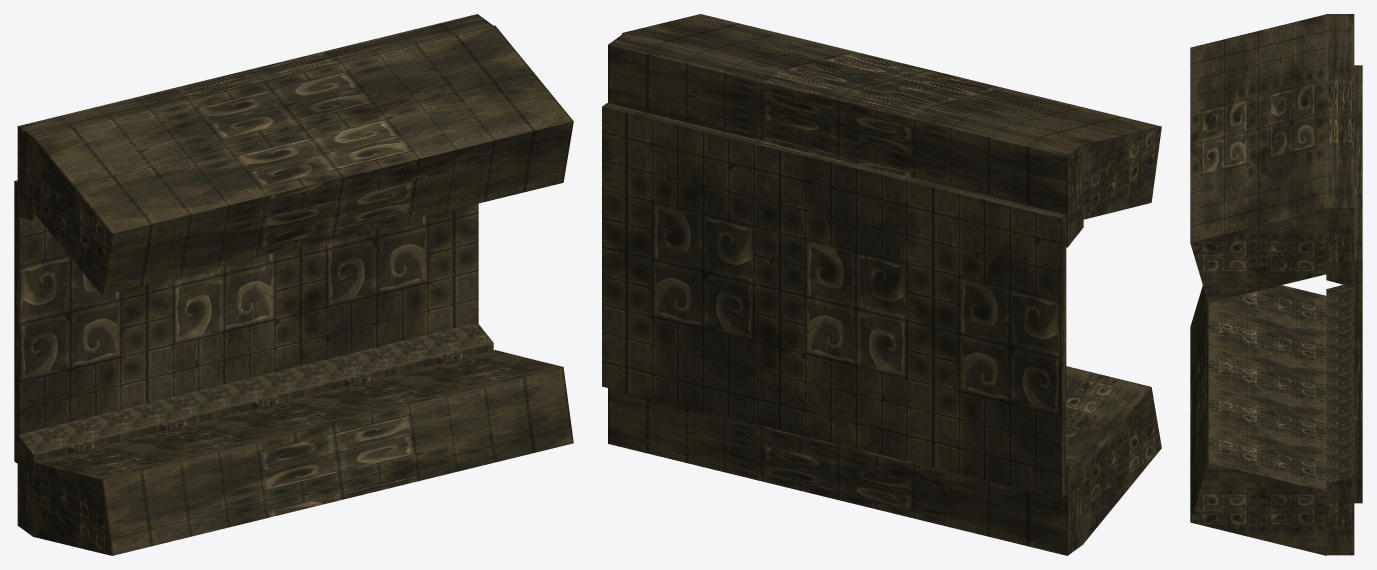
File: stcoordidor1dp_wtf.obj
3 views of the same model, side by side, from view 1: azimuth 30°, elevation 25°; view 2: azimuth 150°, elevation 25°; view 3: azimuth 270°, elevation 25° (orthographic). The views are drawn at different scales.
Parts seen in each view (by area): view 1: group2; view 2: group2; view 3: group2.
Boxes of the visible parts, x1,y1,x2,y2 form: group2: [14, 14, 573, 555]; group2: [602, 14, 1161, 555]; group2: [1190, 14, 1362, 555].
Size of the model in its own units: 660 by 546 by 246.
